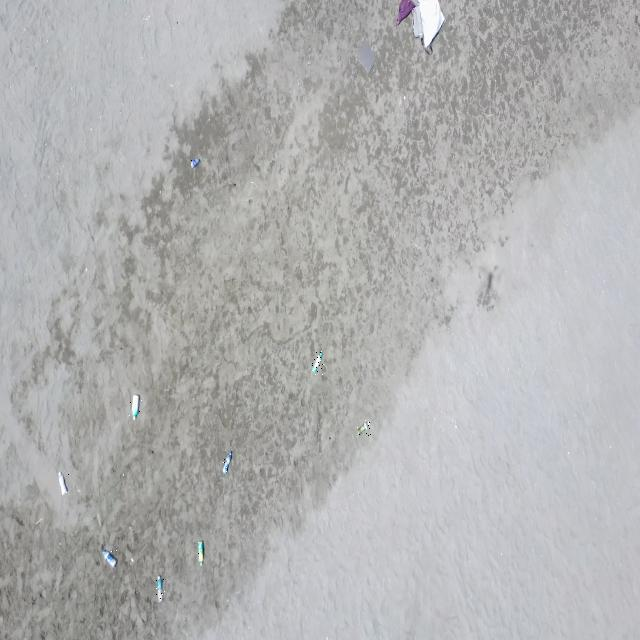plastic-bottle: (129, 393, 142, 424), (56, 470, 70, 497), (102, 548, 118, 569), (312, 348, 324, 376), (222, 450, 234, 475), (156, 573, 165, 602), (197, 540, 206, 568), (357, 420, 371, 436), (190, 157, 200, 171)
